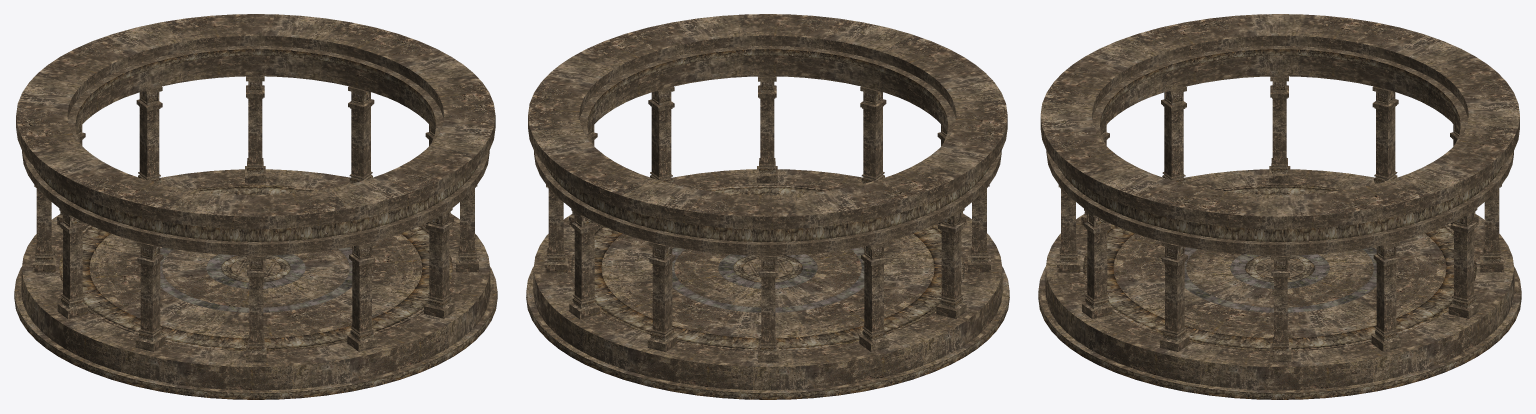
Rendered from materials_5_building_29.fbx.
3 renders of one model, left to right at view 1: azimuth 30°, elevation 25°; view 2: azimuth 150°, elevation 25°; view 3: azimuth 270°, elevation 25°, orthographic.
Visible parts, largest first — view 1: materials_5_building_29; view 2: materials_5_building_29; view 3: materials_5_building_29.
Boxes of the visible parts, x1,y1,x2,y2 form: materials_5_building_29: (14, 14, 497, 399); materials_5_building_29: (526, 14, 1009, 399); materials_5_building_29: (1038, 14, 1521, 399).
Size of the model in its own units: 1076 by 448 by 1076.
